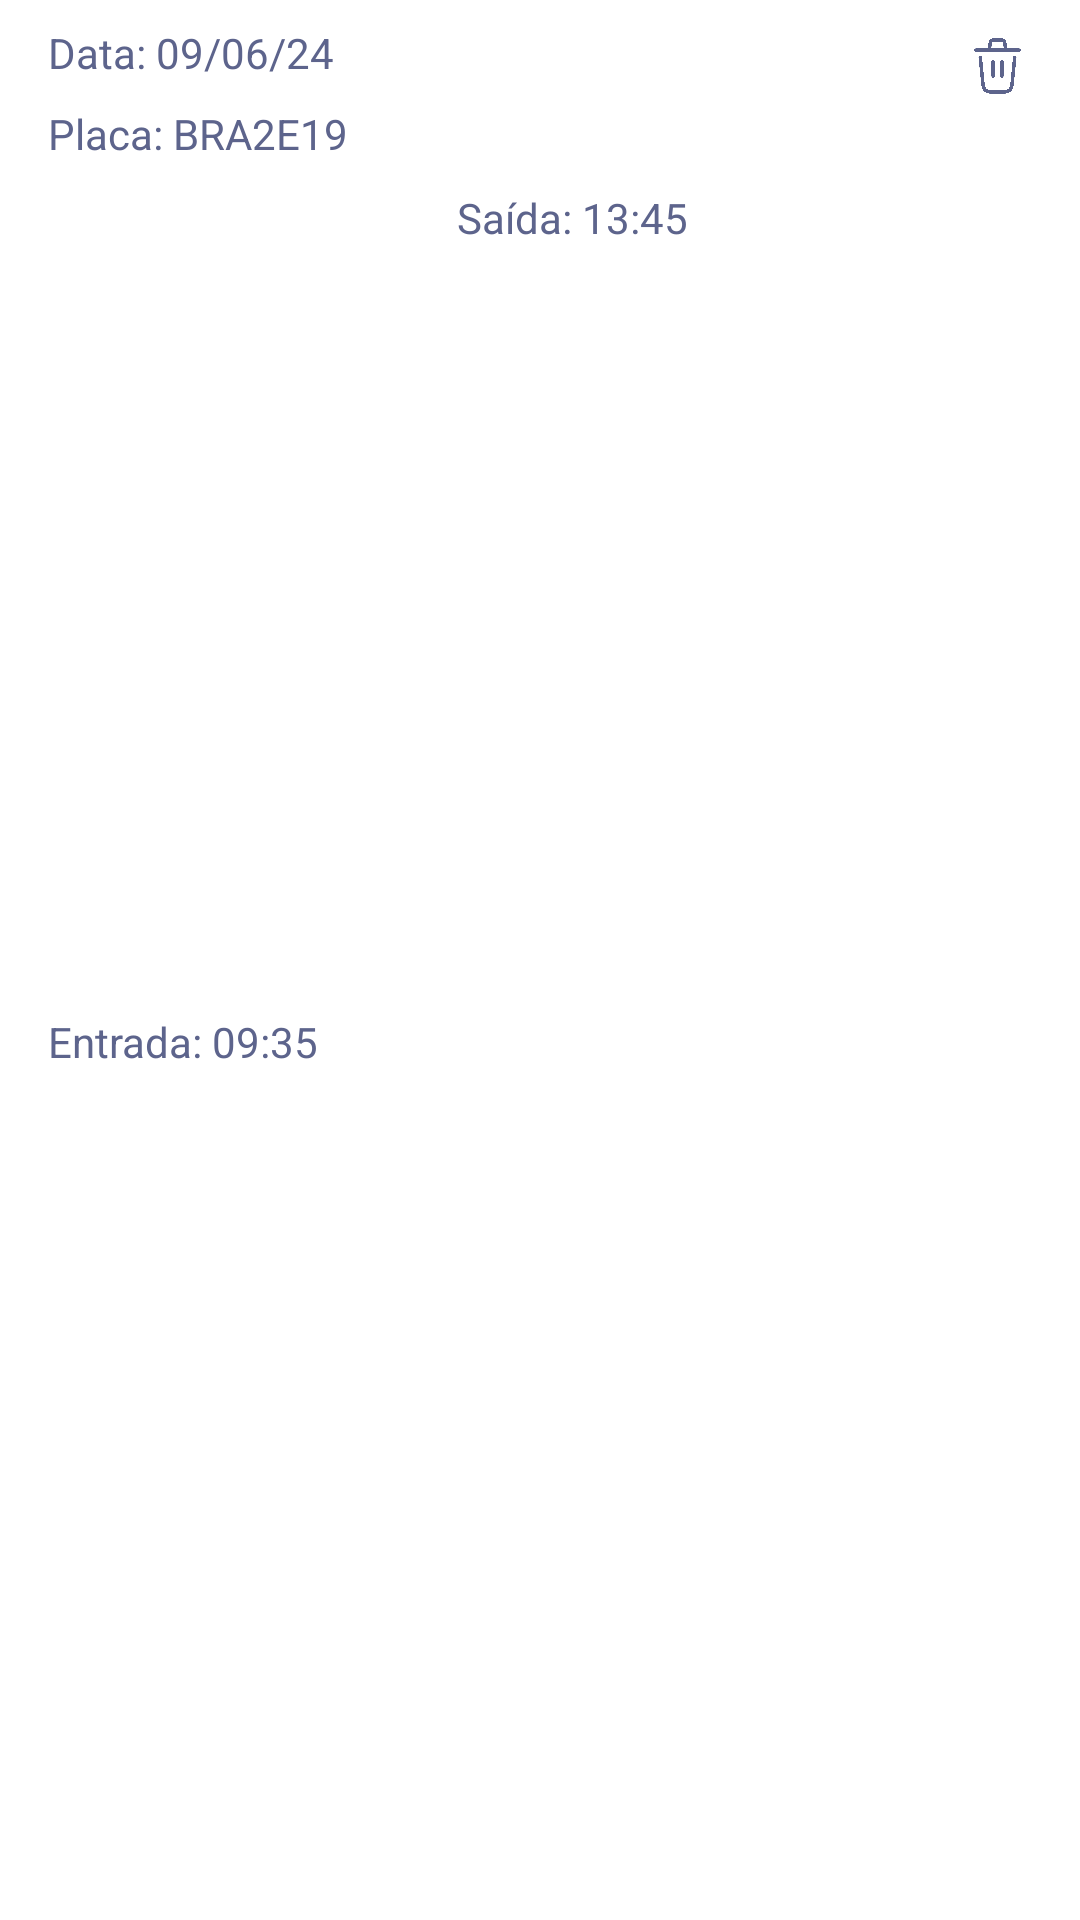

Icons on this 1080px x 1920px Android screen, each with its box as (x1, y1, x2, y2):
lixeira: (974, 38, 1021, 94)
